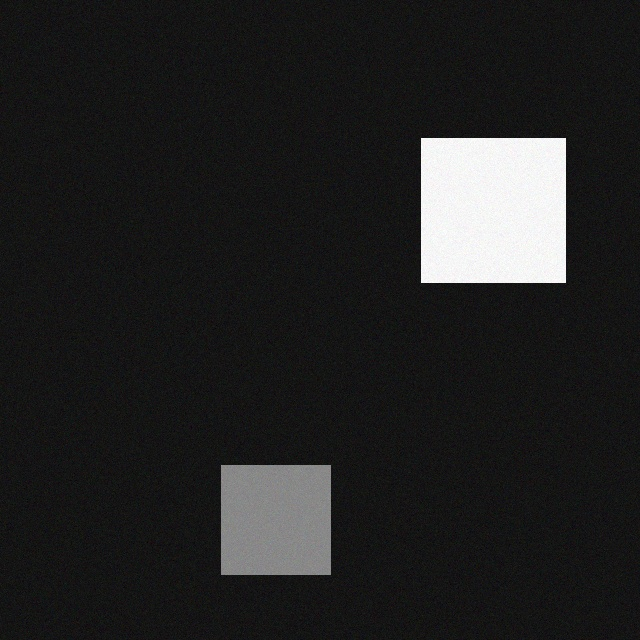square: (417, 142, 561, 286), (217, 469, 326, 578)
